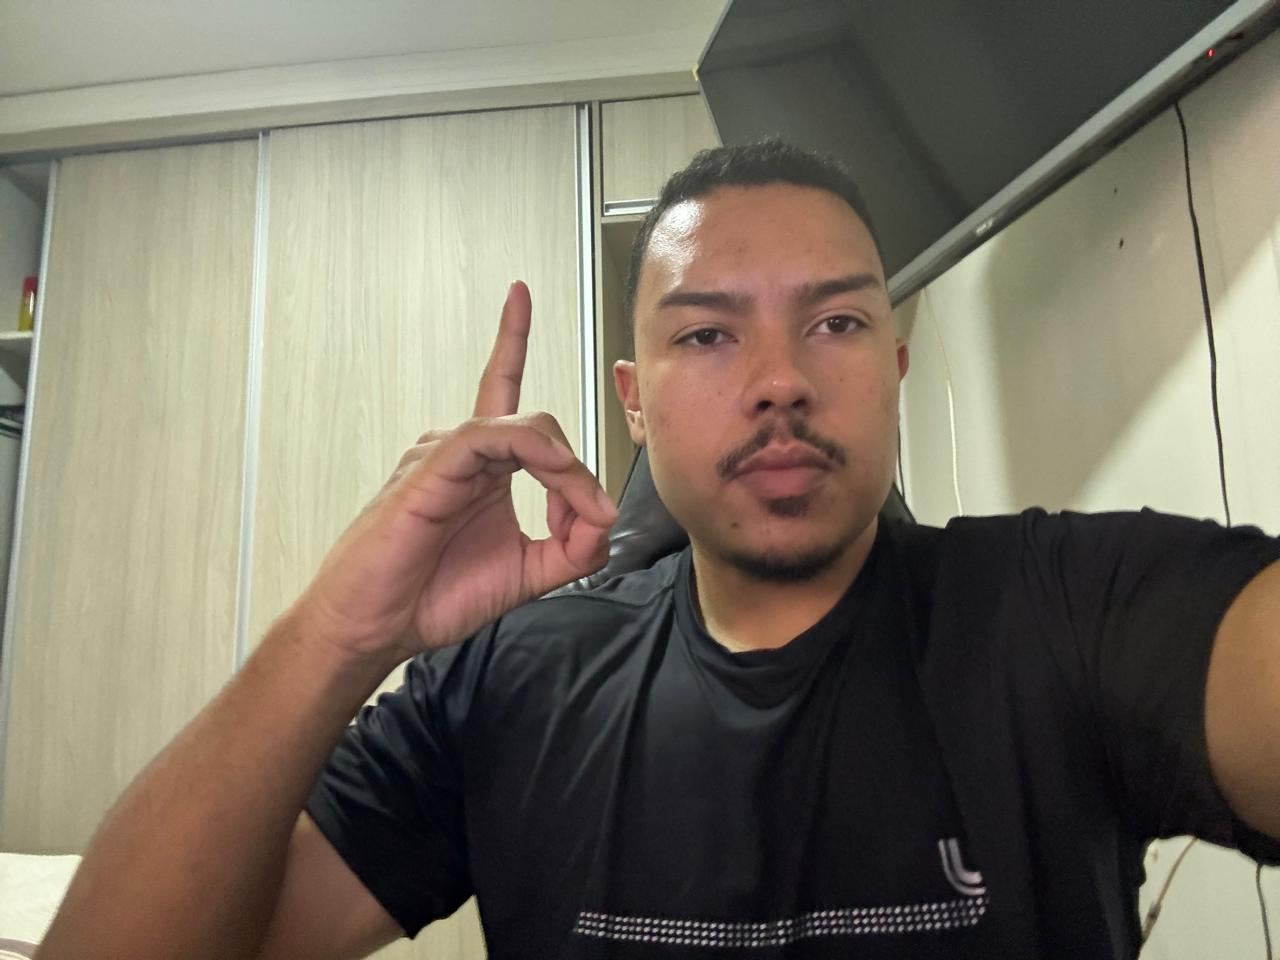d: (310, 271, 626, 656)
